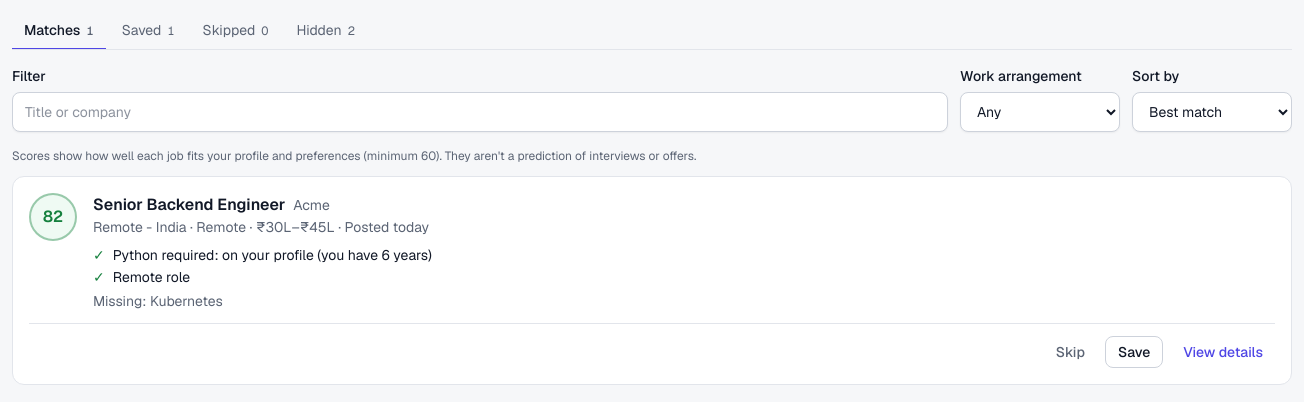
JobsBrowser › lists matches with a non-predictive disclaimer and switches tabs
Expected: the link "Senior Backend Engineer" is shown, [93, 194, 285, 215]
Expected: the text "aren.t a prediction of interviews or offers" is shown, [436, 148, 696, 164]
Click the tab "Saved1" at point(148, 31), box [110, 12, 187, 50]
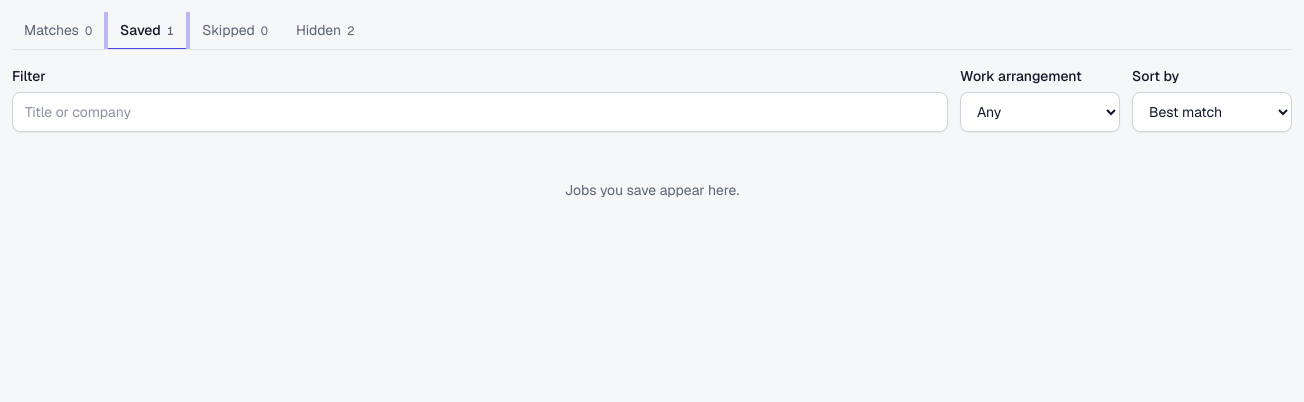
Result: the text "Jobs you save appear here." is shown at [565, 181, 739, 199]
